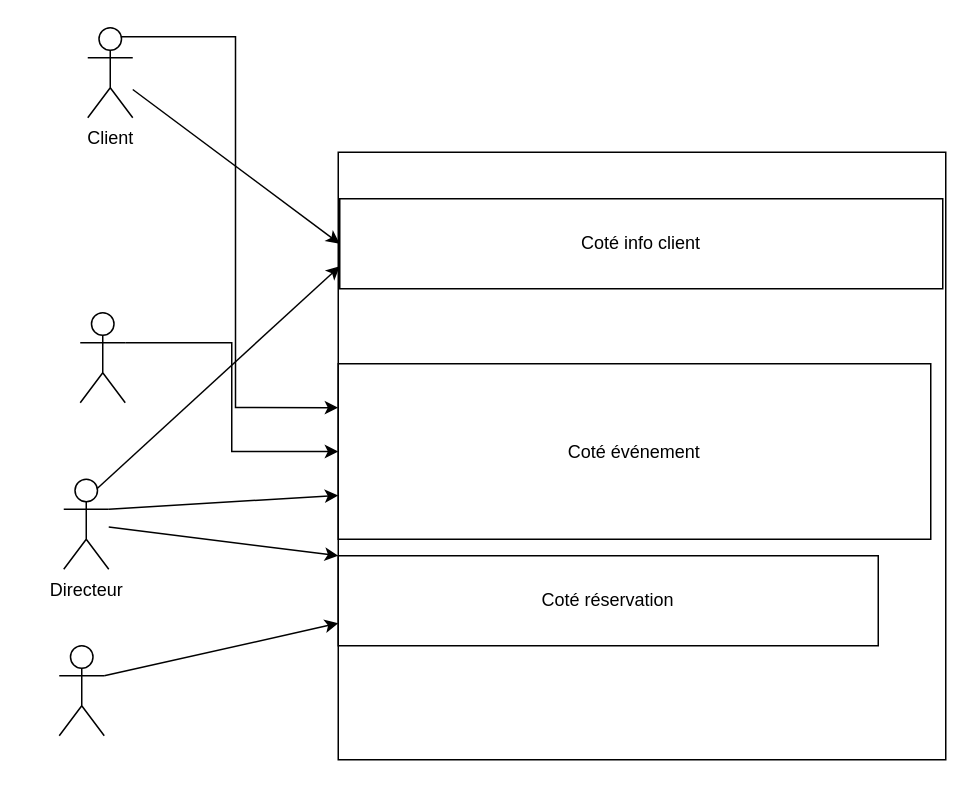
The diagram is 972 pixels wide and 794 high, and some of its shapes have lost their labels. The shapes that lost their labels are listed below. From the top down, each one's centre as x and y in pixels, then its label:
pixel 102 357: Organisateurs
pixel 81 690: Gestionnaires
